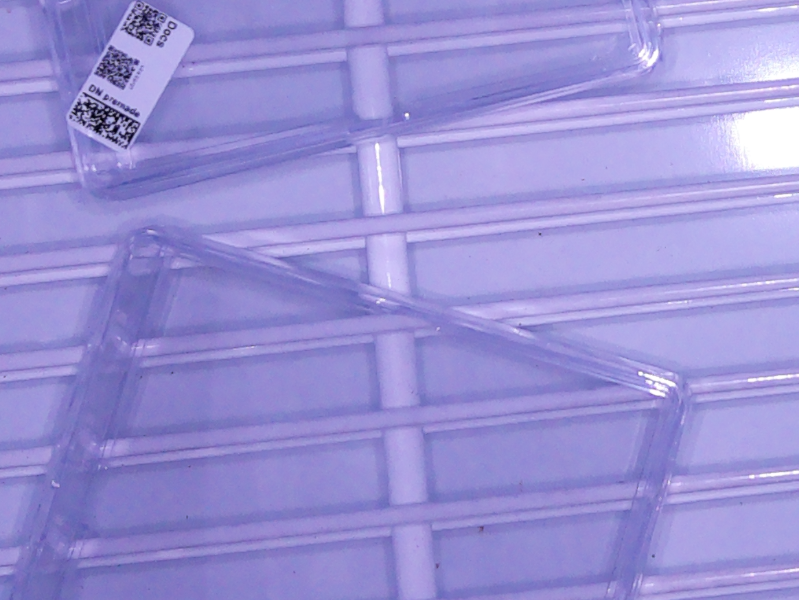plate: (6, 223, 692, 600), (34, 1, 669, 202)
